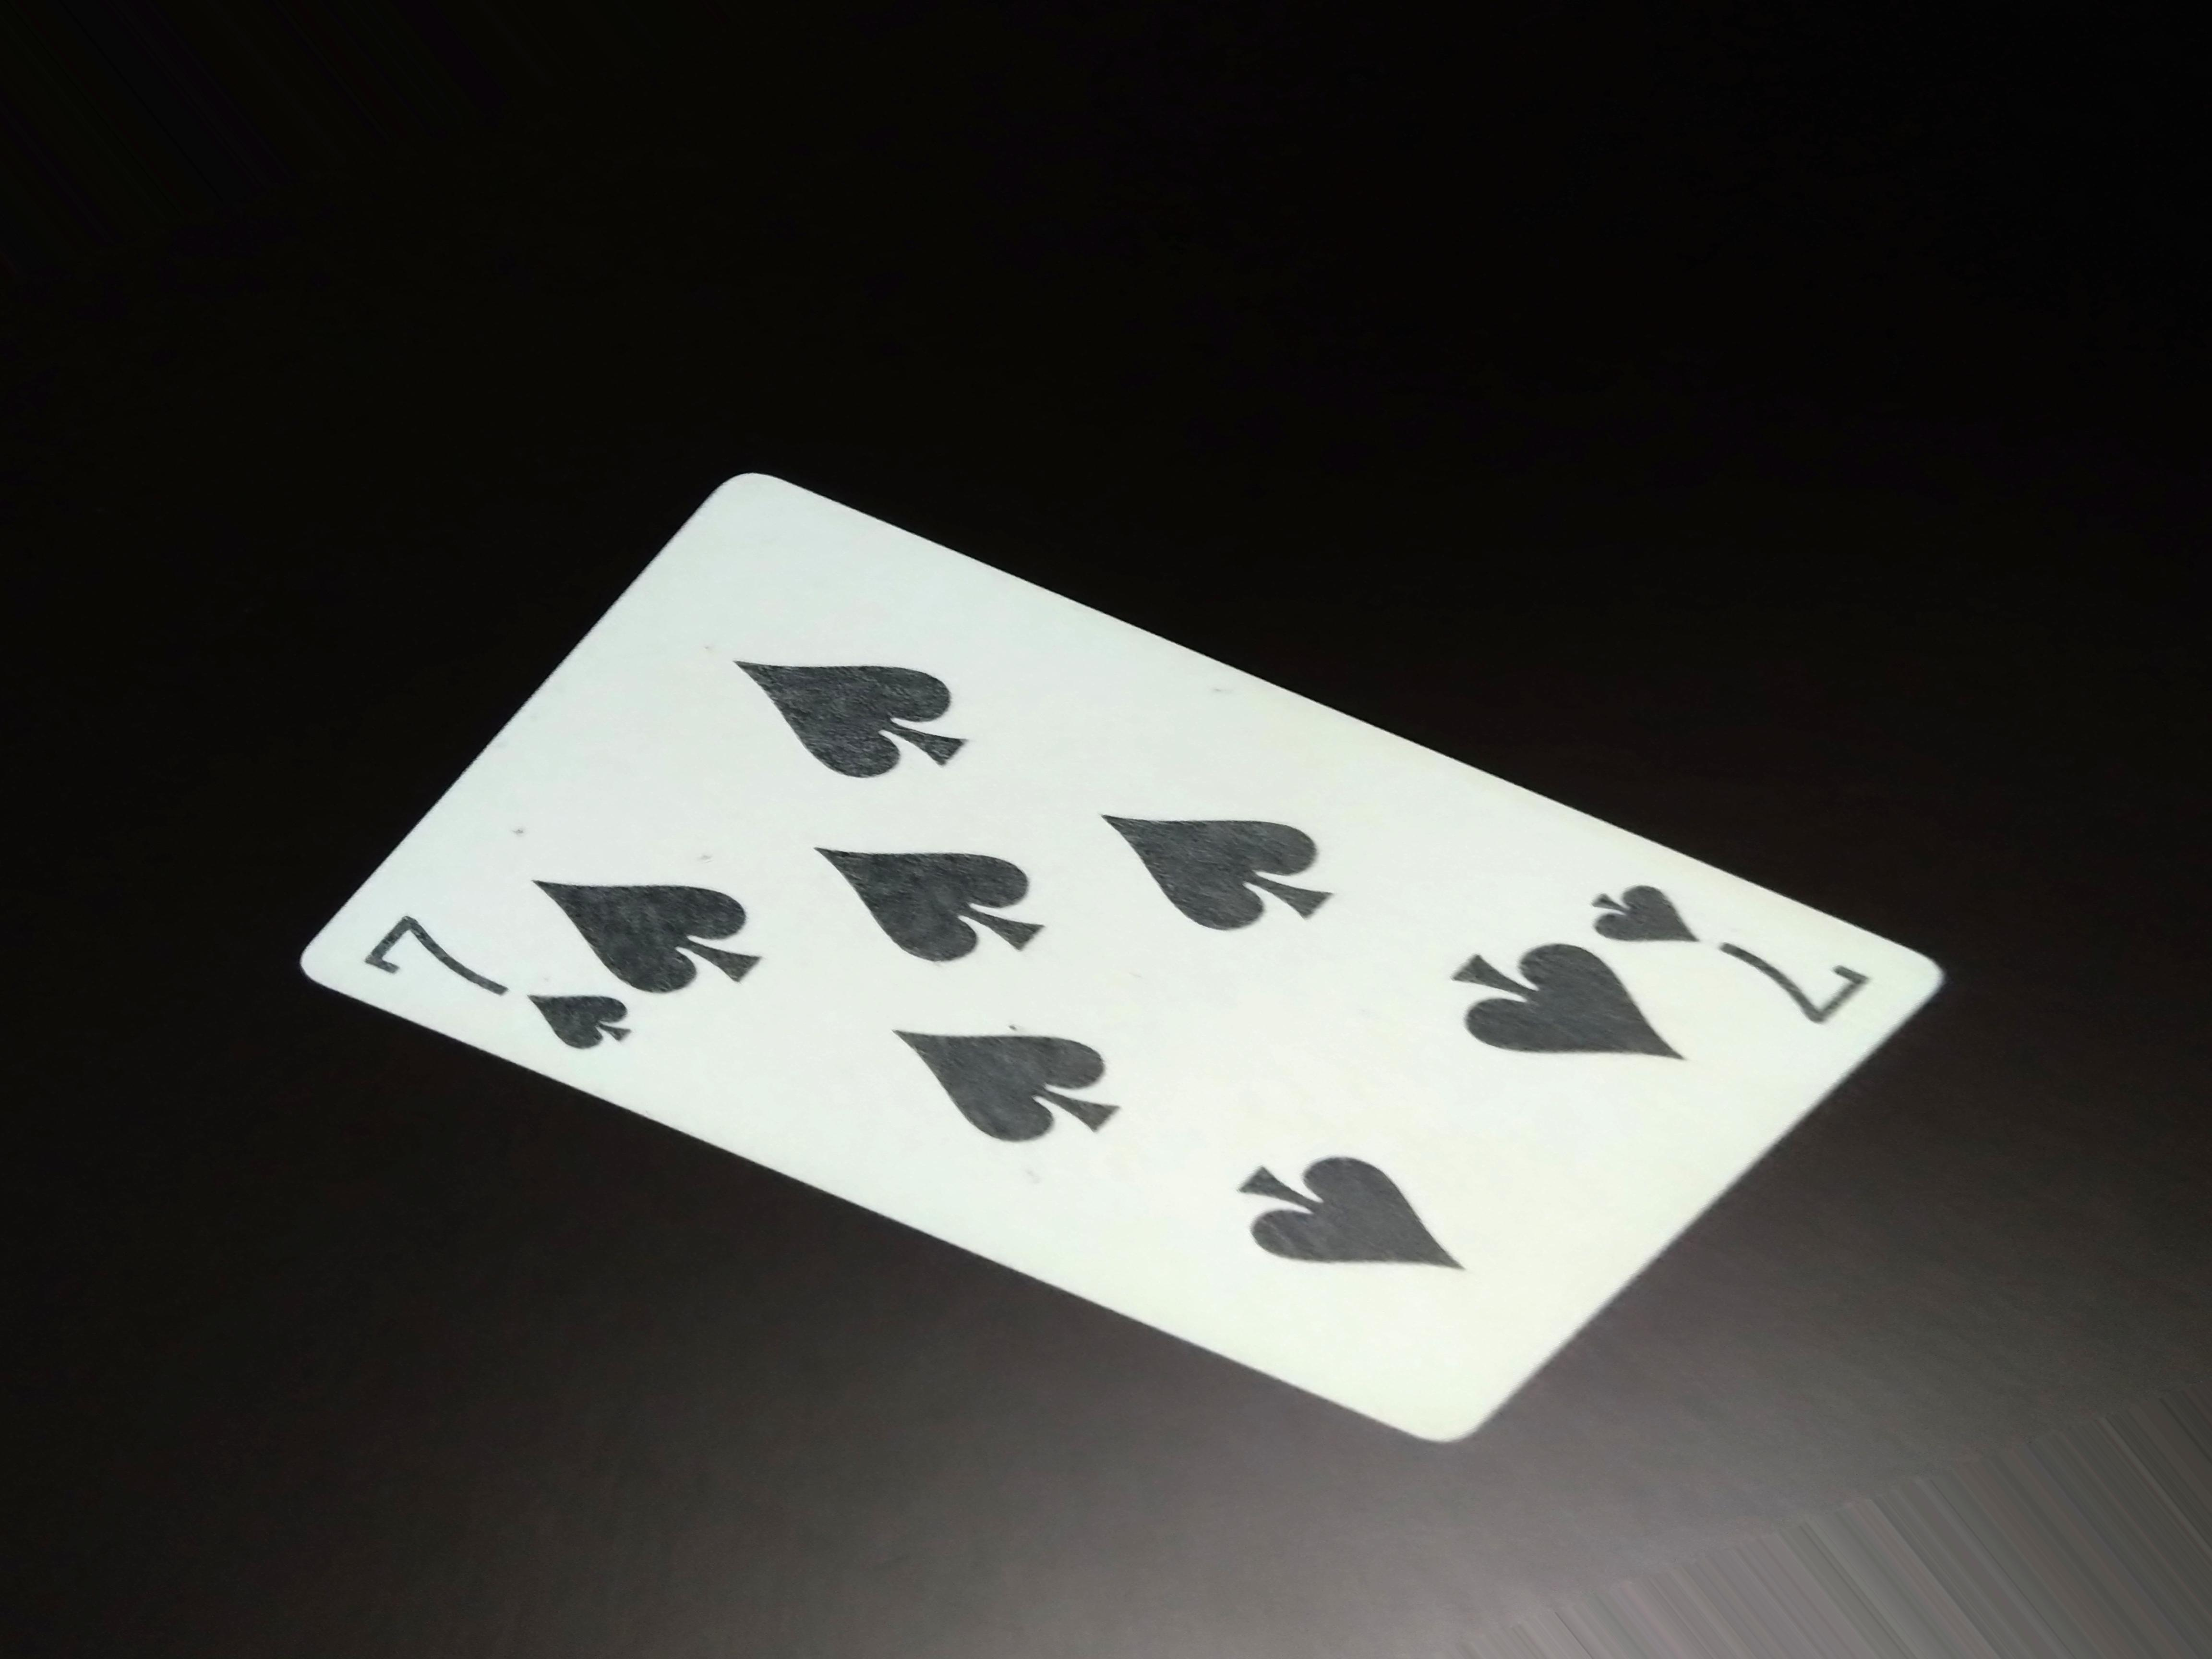7S: (368, 908, 672, 1087)
